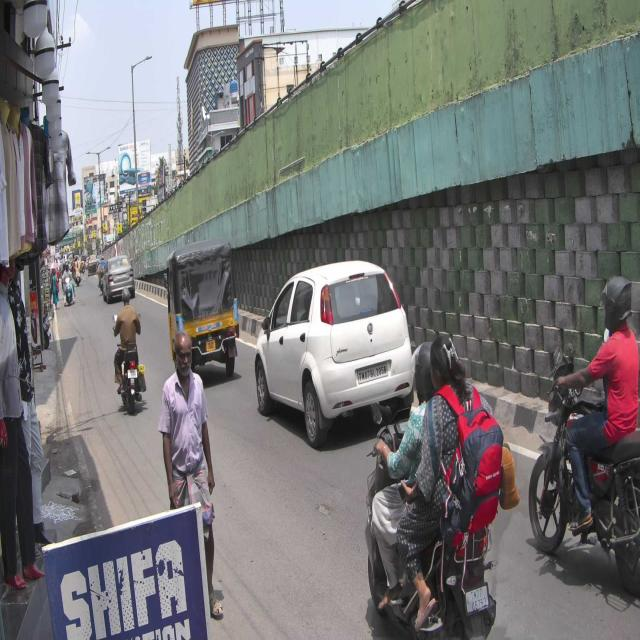double_rider: (364, 332, 511, 640)
single_rider: (528, 275, 640, 595)
